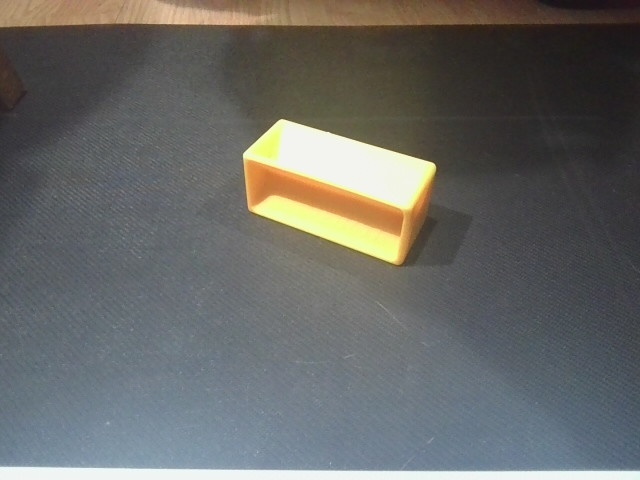YellowSample: (239, 116, 441, 270)
